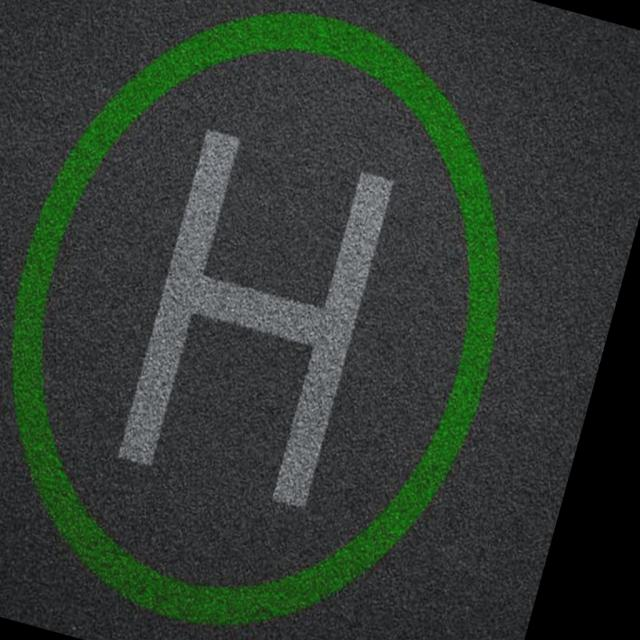helipad: (7, 9, 507, 629)
